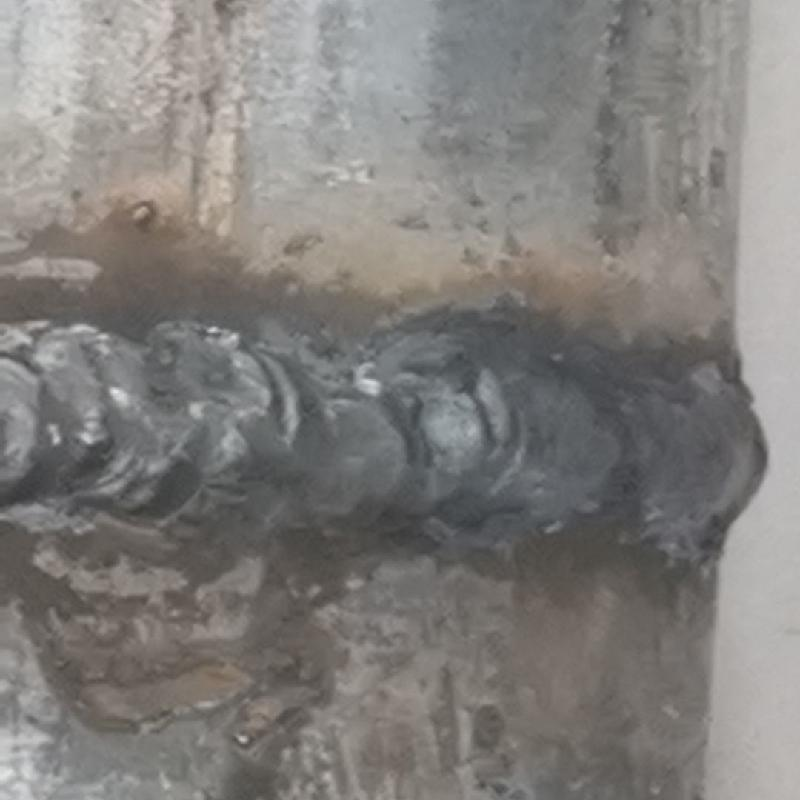good: (2, 305, 769, 572)
